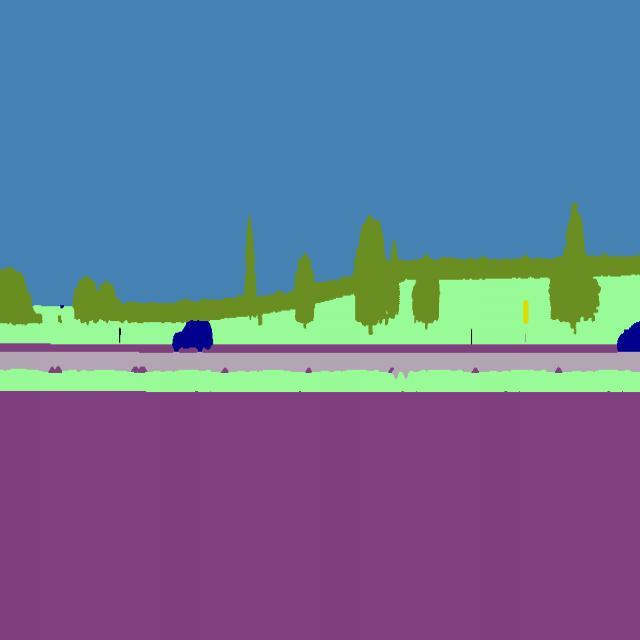safe: (170, 313, 216, 357), (612, 319, 640, 356)
